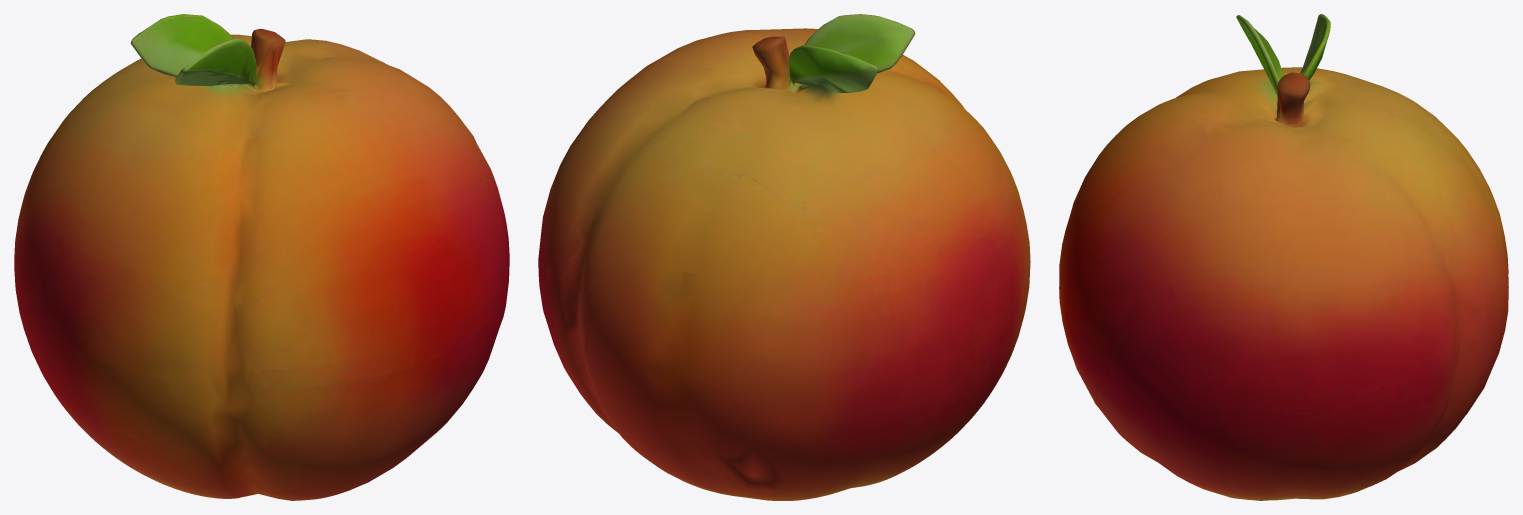
Rendered from peach.glb.
The picture shows the model from 3 angles, left to right: view 1: azimuth 30°, elevation 25°; view 2: azimuth 150°, elevation 25°; view 3: azimuth 270°, elevation 25°; orthographic projection. The views are drawn at different scales.
Parts seen in each view (by area): view 1: material; view 2: material; view 3: material.
Part boxes in pixels (bbox=[...]): material: bbox=[14, 14, 509, 500]; material: bbox=[538, 14, 1030, 500]; material: bbox=[1059, 14, 1508, 500].
Size of the model in its own units: 1.1 by 1.1 by 1.08.
Materials: 1 (1 with a texture image).
